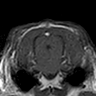Brain: (19, 27, 82, 74)
